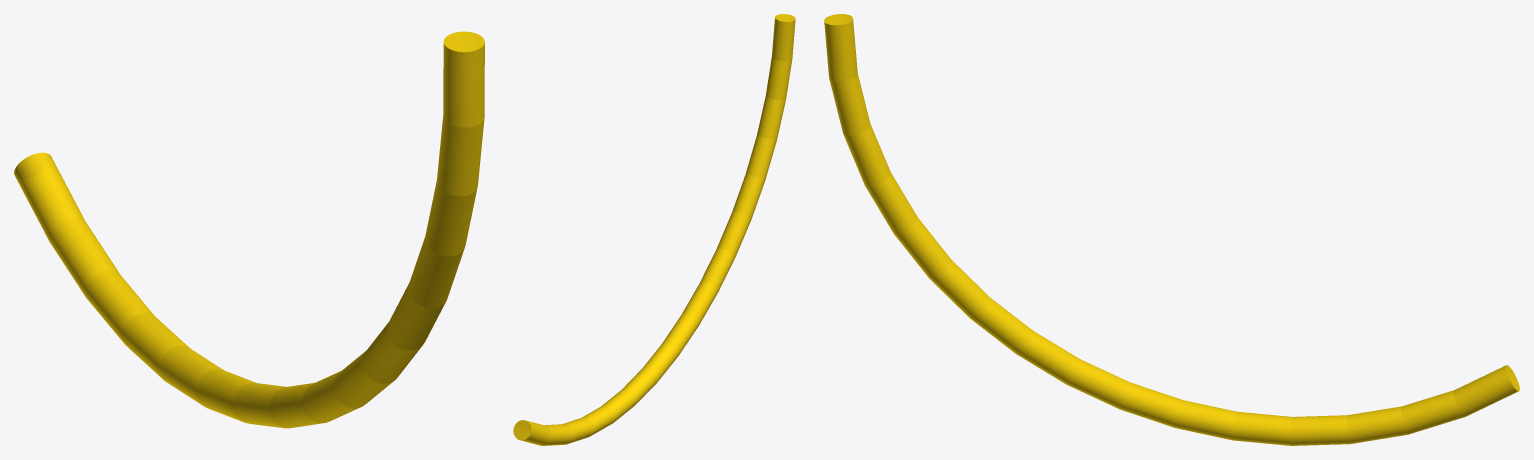
Rendered from Event_421115418_track_171.fbx.
3 renders of one model, left to right at view 1: azimuth 30°, elevation 25°; view 2: azimuth 150°, elevation 25°; view 3: azimuth 270°, elevation 25°, orthographic. The views are drawn at different scales.
Parts seen in each view (by area): view 1: Model; view 2: Model; view 3: Model.
Part boxes in pixels (x1,y1,x2,y2): Model: (14, 31, 484, 428); Model: (513, 14, 795, 445); Model: (824, 14, 1519, 445).
Bounding box in the file's own units: 0.0926 × 0.6268 × 0.9545.
